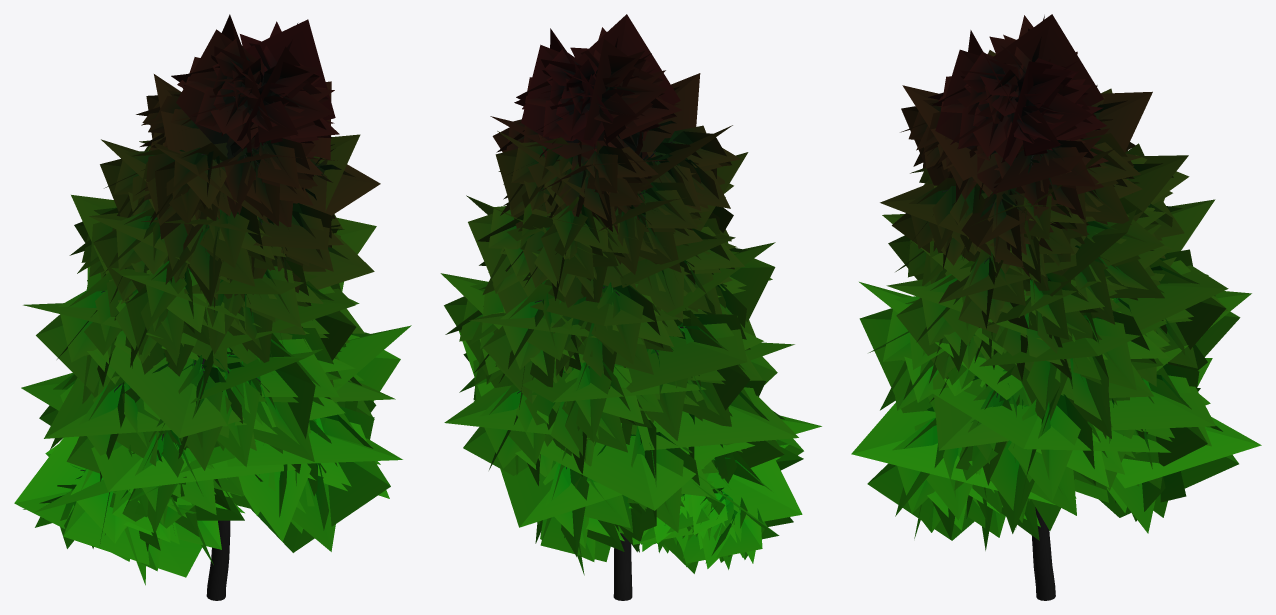
The model's file is birch_tree_0.FBX.
3 views of the same model, side by side, from view 1: azimuth 30°, elevation 25°; view 2: azimuth 150°, elevation 25°; view 3: azimuth 270°, elevation 25° (orthographic). The views are drawn at different scales.
Visible parts, largest first — view 1: birch_leaves_lod_0, birch_leaves_shadow, birch_trunk_lod_0; view 2: birch_leaves_lod_0, birch_leaves_shadow, birch_trunk_lod_0; view 3: birch_leaves_lod_0, birch_leaves_shadow, birch_trunk_lod_0.
Boxes of the visible parts, <box> form: birch_leaves_lod_0: <box>35,21,389,585</box>; birch_leaves_shadow: <box>14,14,411,577</box>; birch_trunk_lod_0: <box>206,520,230,600</box>; birch_leaves_lod_0: <box>445,27,784,575</box>; birch_leaves_shadow: <box>440,14,821,563</box>; birch_trunk_lod_0: <box>613,533,632,600</box>; birch_leaves_lod_0: <box>869,15,1228,550</box>; birch_leaves_shadow: <box>851,14,1261,540</box>; birch_trunk_lod_0: <box>1031,507,1055,600</box>.
Size of what is drawn, in the model's own units: 9.65 by 14.41 by 9.07.
